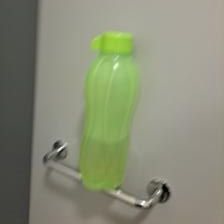bottle: (72, 29, 143, 194)
